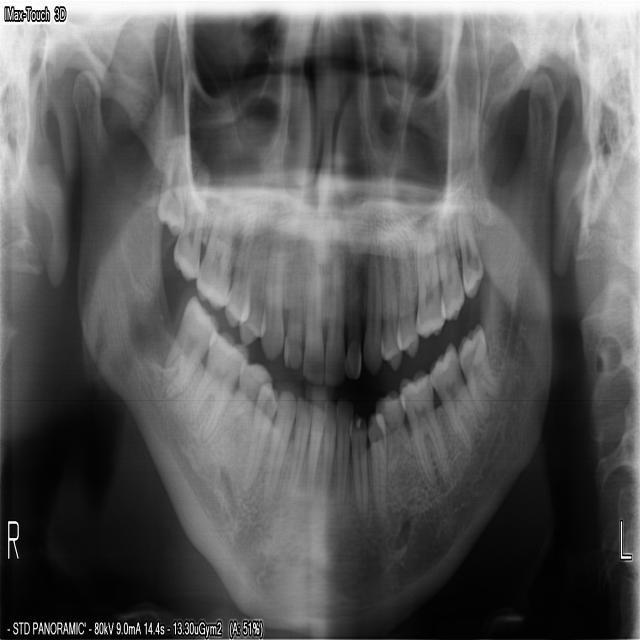LCD: (347, 409, 367, 529)
LCU: (361, 234, 382, 379)
LID: (333, 396, 352, 519), (318, 398, 337, 510)
LIU: (322, 240, 344, 387), (342, 240, 361, 381)
LMD: (397, 365, 449, 487), (428, 340, 478, 455), (456, 314, 501, 420), (373, 387, 410, 470)
LMU: (413, 217, 445, 340), (455, 198, 484, 300), (438, 211, 464, 322)
LPMD: (365, 408, 386, 520)
LPMU: (378, 237, 401, 372), (394, 232, 418, 359)
RCD: (260, 385, 296, 511)
RCU: (258, 226, 284, 363)
RID: (279, 395, 312, 511), (303, 390, 325, 517)
RIU: (300, 243, 323, 387), (281, 233, 303, 372)
RMD: (185, 328, 247, 444), (213, 355, 271, 476), (158, 291, 218, 399)
RMU: (194, 188, 232, 311), (171, 160, 208, 283), (154, 131, 185, 238)
RPMD: (237, 381, 277, 497)
RPMU: (237, 223, 266, 347), (222, 214, 250, 331)
